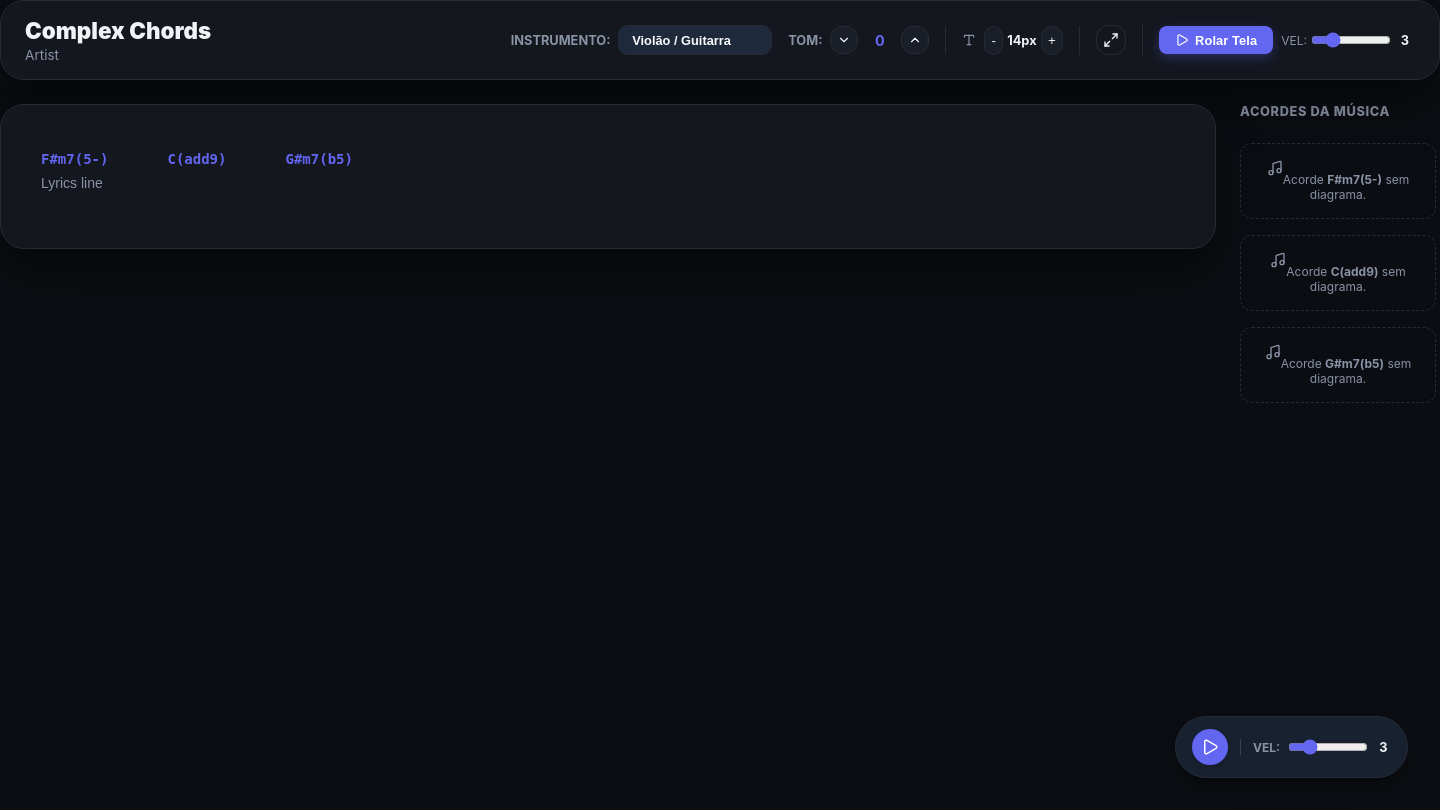
CifraViewer Component › highlights and transposes complex chords correctly
Expected: the 1st text "F#m7(5-)" is shown, [41,151,108,167]
Expected: the 1st text "C(add9)" is shown, [168,151,226,167]
Transpose +1
Click the button titled "Aumentar Meio Tom" at [915, 40], box [901,26,929,54]
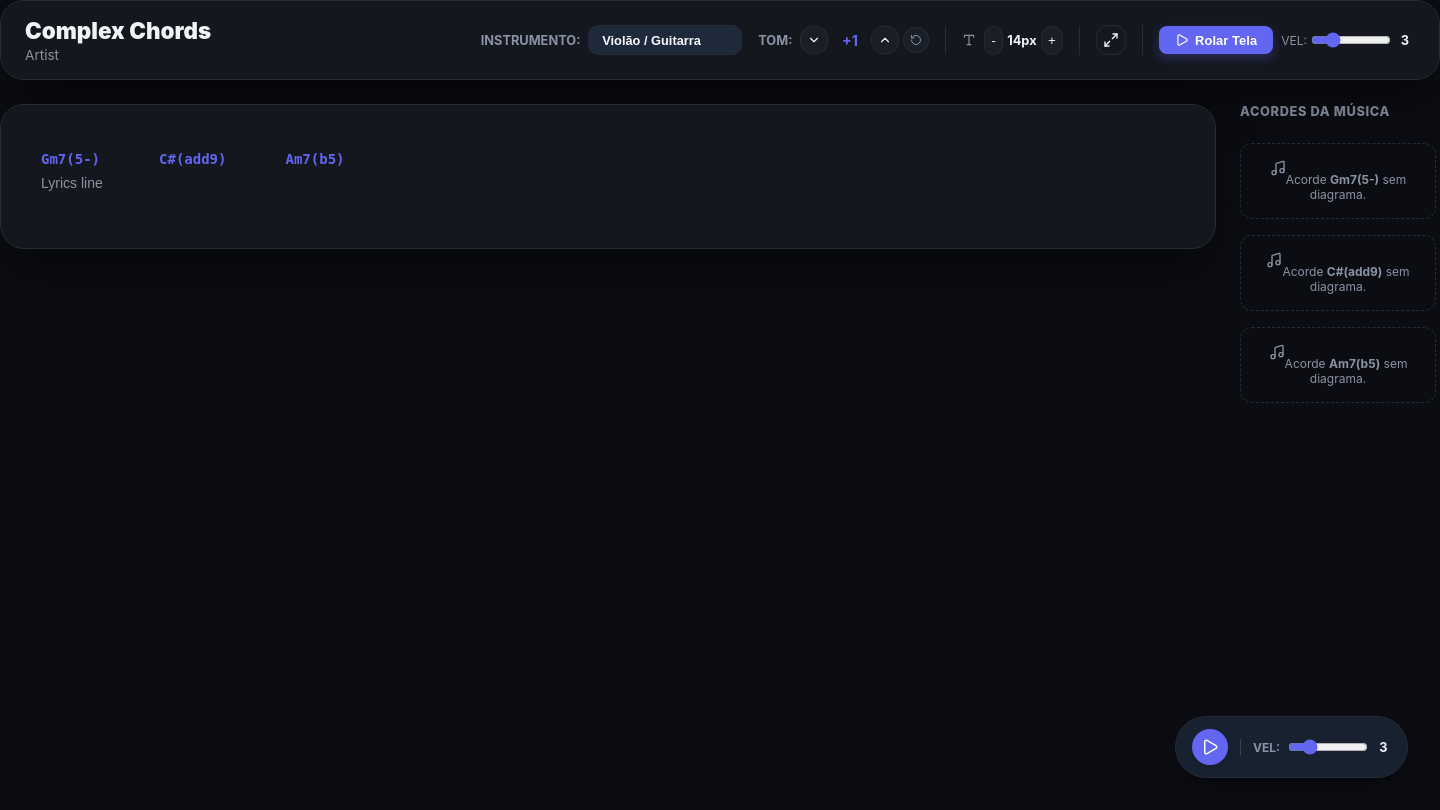
Now the 1st text "Gm7(5-)" is shown, box [41,151,100,167]
Now the 1st text "C#(add9)" is shown, box [159,151,226,167]
Now the 1st text "Am7(b5)" is shown, box [286,151,344,167]
